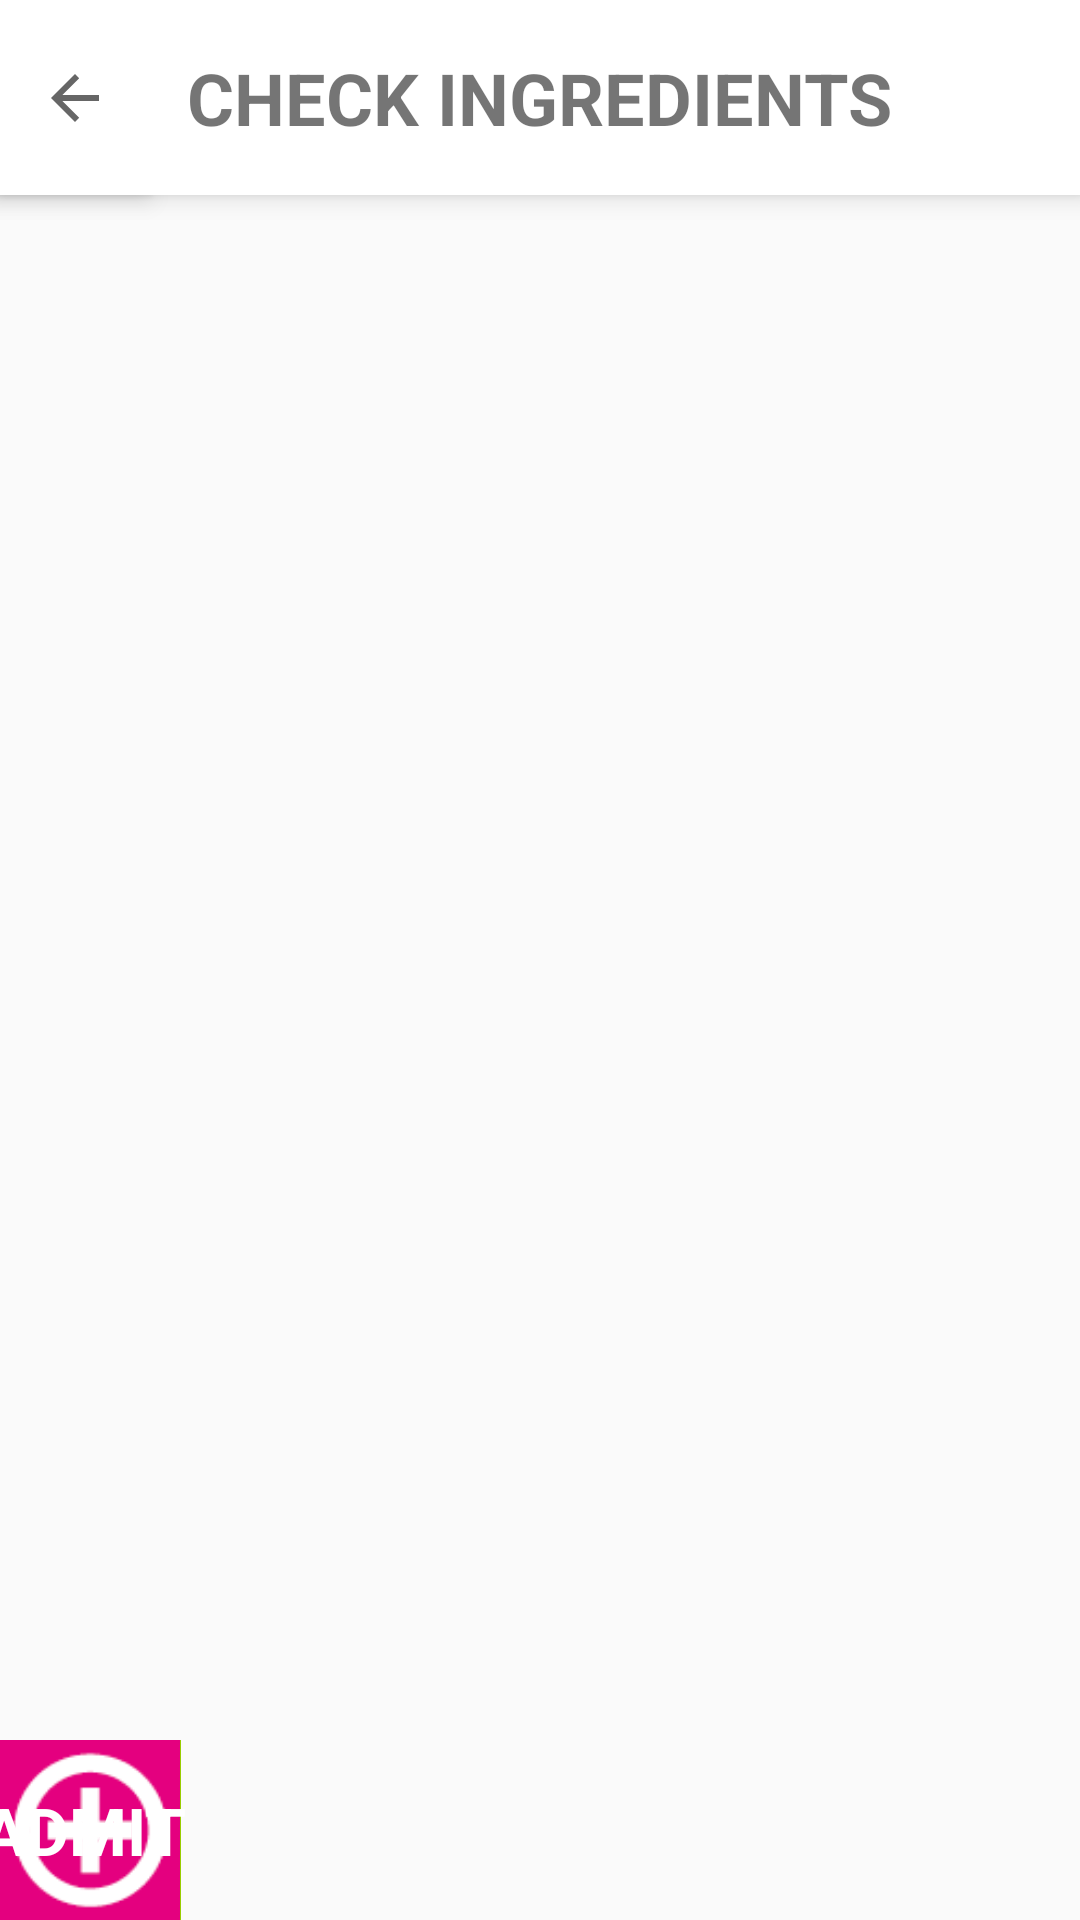

Icons on this 1080*1920 Android screen, each with the point to tap as [x,y]:
add: [90,1830]
